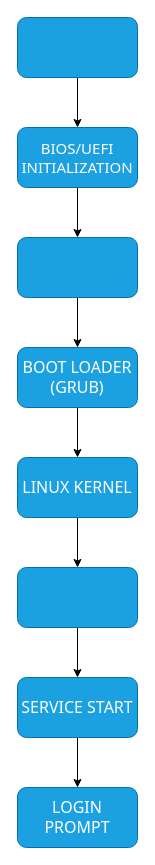
Some shapes in this 155 by 865 pixel diagram are drawn without their labels. The centre of each missing label's shape, as x and y in pixels:
BOOT DEVICE DETECTION: (77,267)
INIT/SYSTEMD: (77,597)
POWER ON: (77,47)
